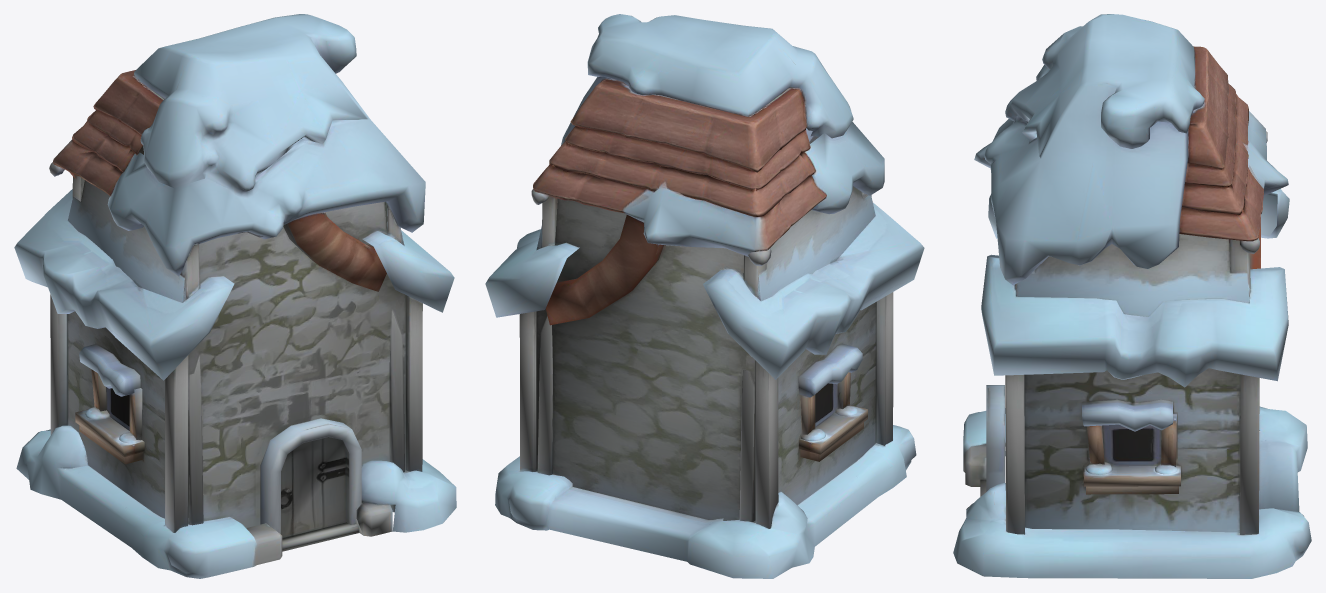
3 renders of one model, left to right at view 1: azimuth 30°, elevation 25°; view 2: azimuth 150°, elevation 25°; view 3: azimuth 270°, elevation 25°, orthographic.
Parts seen in each view (by area): view 1: tripo_node_236c6f1c-9728-49e3-83eb-e2c2d7778400; view 2: tripo_node_236c6f1c-9728-49e3-83eb-e2c2d7778400; view 3: tripo_node_236c6f1c-9728-49e3-83eb-e2c2d7778400.
Boxes of the visible parts, x1=… form: tripo_node_236c6f1c-9728-49e3-83eb-e2c2d7778400: x1=14, y1=14, x2=456, y2=578; tripo_node_236c6f1c-9728-49e3-83eb-e2c2d7778400: x1=485, y1=14, x2=924, y2=578; tripo_node_236c6f1c-9728-49e3-83eb-e2c2d7778400: x1=953, y1=14, x2=1311, y2=578.
Size of the model in its own units: 0.748 by 0.998 by 0.7012.
1 material, 1 textured.
